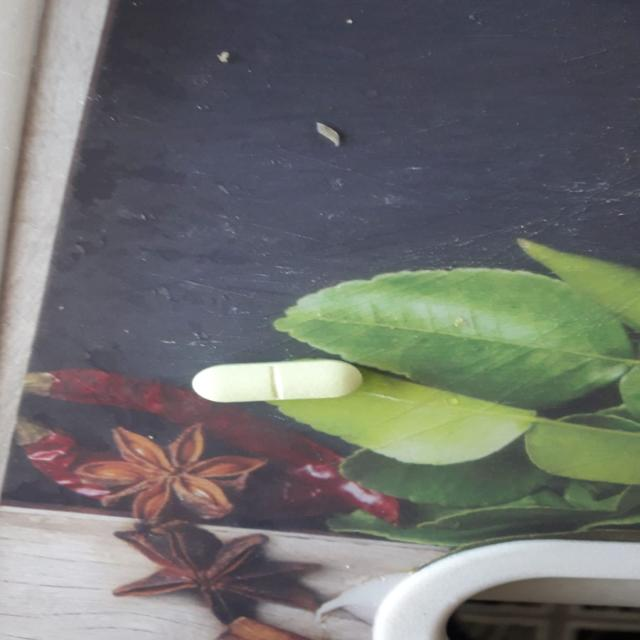pills: (173, 354, 380, 409)
